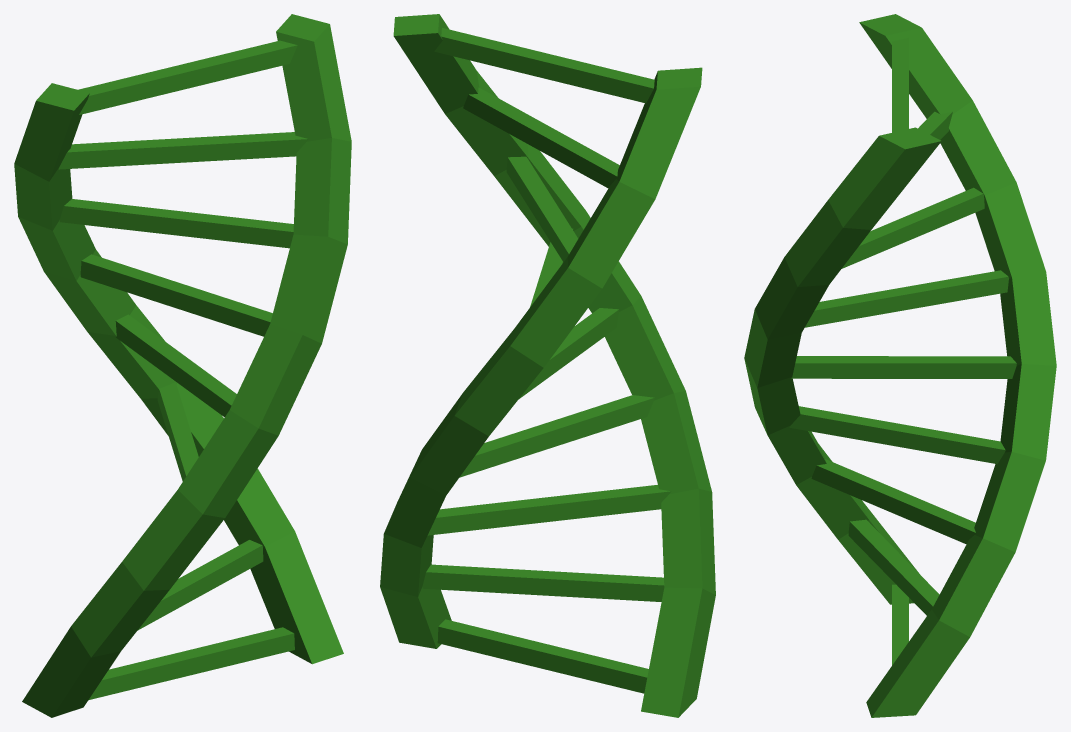
Rendered from DNA.fbx.
3 views of the same model, side by side, from view 1: azimuth 30°, elevation 25°; view 2: azimuth 150°, elevation 25°; view 3: azimuth 270°, elevation 25° (orthographic). The views are drawn at different scales.
Parts seen in each view (by area): view 1: Drop DNA; view 2: Drop DNA; view 3: Drop DNA.
Part boxes in pixels (<box>): Drop DNA: <box>14,14,351,717</box>; Drop DNA: <box>380,14,715,717</box>; Drop DNA: <box>744,14,1056,717</box>.
Bounding box in the file's own units: 0.4623 × 0.4511 × 0.9088.
